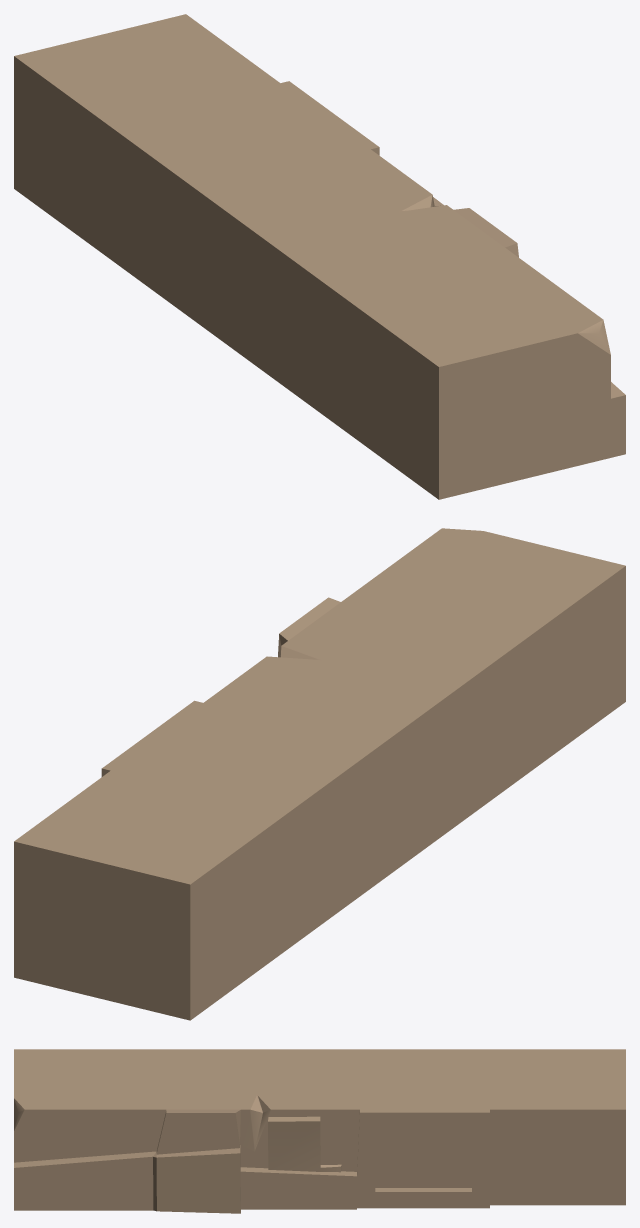
File: ston floor2.FBX
3 views of the same model, one above another, from view 1: azimuth 30°, elevation 25°; view 2: azimuth 150°, elevation 25°; view 3: azimuth 270°, elevation 25° (orthographic). The views are drawn at different scales.
Parts seen in each view (by area): view 1: Stone floor; view 2: Stone floor; view 3: Stone floor.
Boxes of the visible parts, <box> form: Stone floor: <box>14,14,625,499</box>; Stone floor: <box>14,528,625,1020</box>; Stone floor: <box>14,1049,625,1213</box>.
Size of the model in its own units: 9.15 by 5.89 by 33.77.
